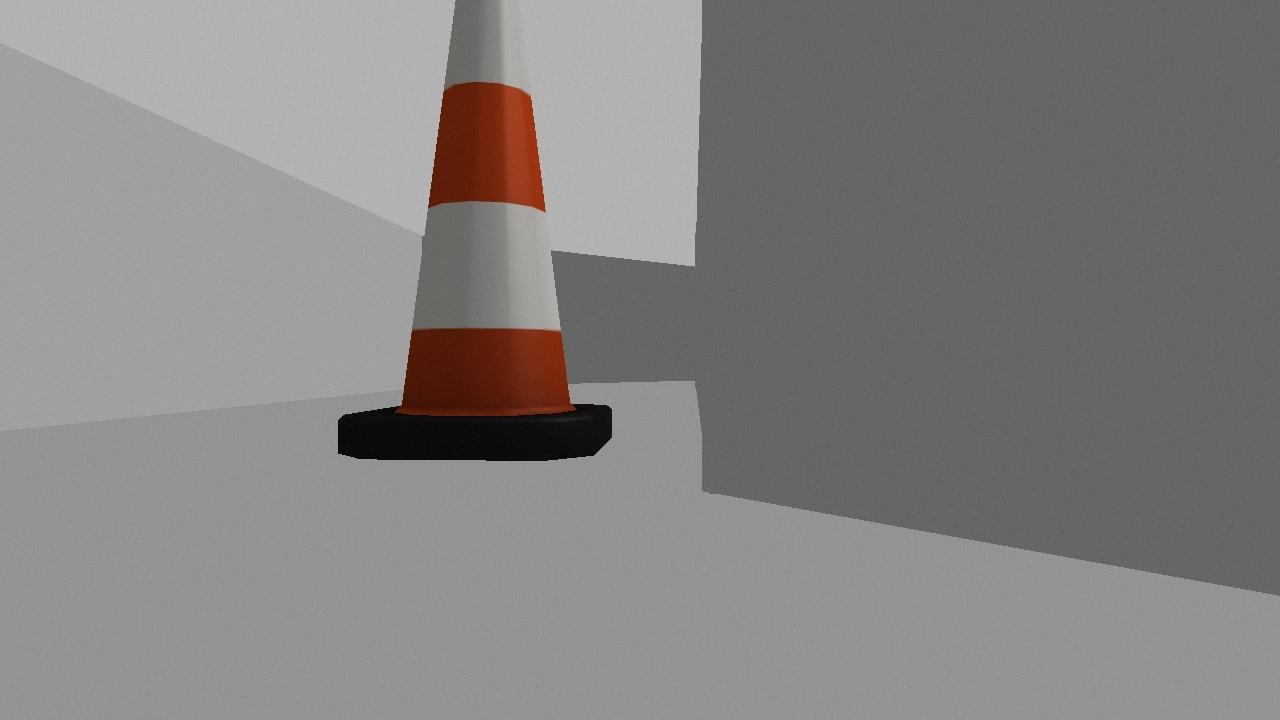cone_barrel: (336, 0, 612, 463)
